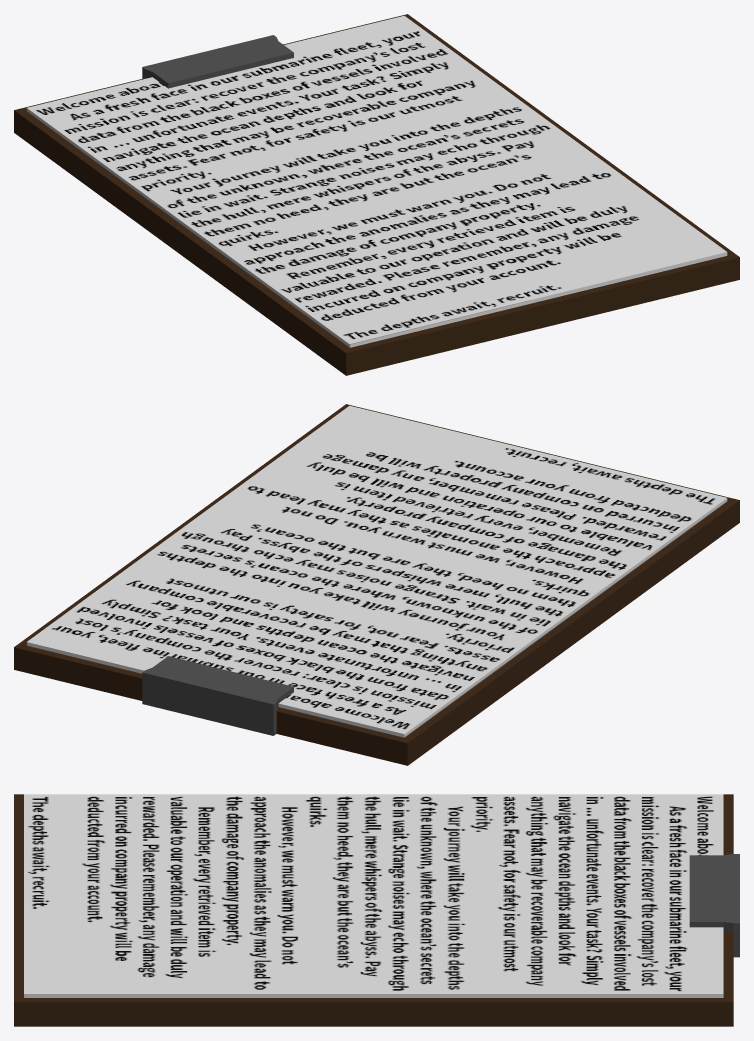
The model's file is IntroBoard.fbx.
3 renders of one model, top to bottom at view 1: azimuth 30°, elevation 25°; view 2: azimuth 150°, elevation 25°; view 3: azimuth 270°, elevation 25°, orthographic. The views are drawn at different scales.
Parts seen in each view (by area): view 1: Cube; view 2: Cube; view 3: Cube.
Part boxes in pixels (bbox=[...]): Cube: bbox=[14, 14, 739, 375]; Cube: bbox=[14, 404, 739, 765]; Cube: bbox=[14, 794, 739, 1026].
Bounding box in the file's own units: 200 × 15.31 × 295.
Materials: 3 (1 with a texture image).
